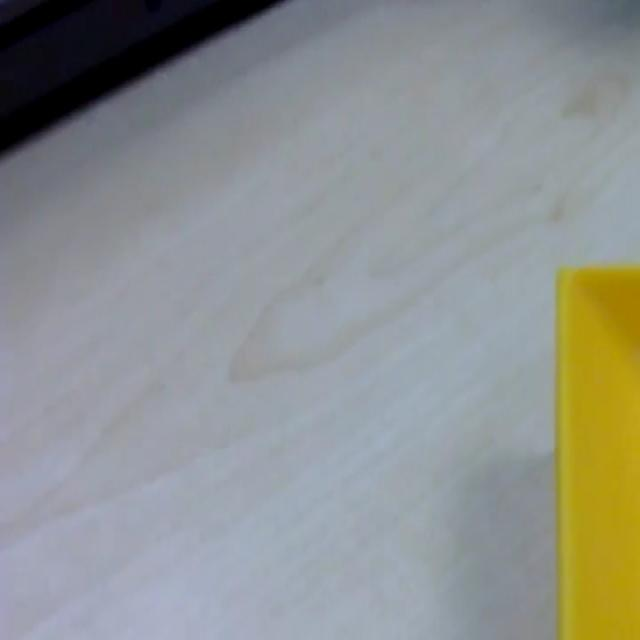yellow_block: (554, 260, 638, 637)
